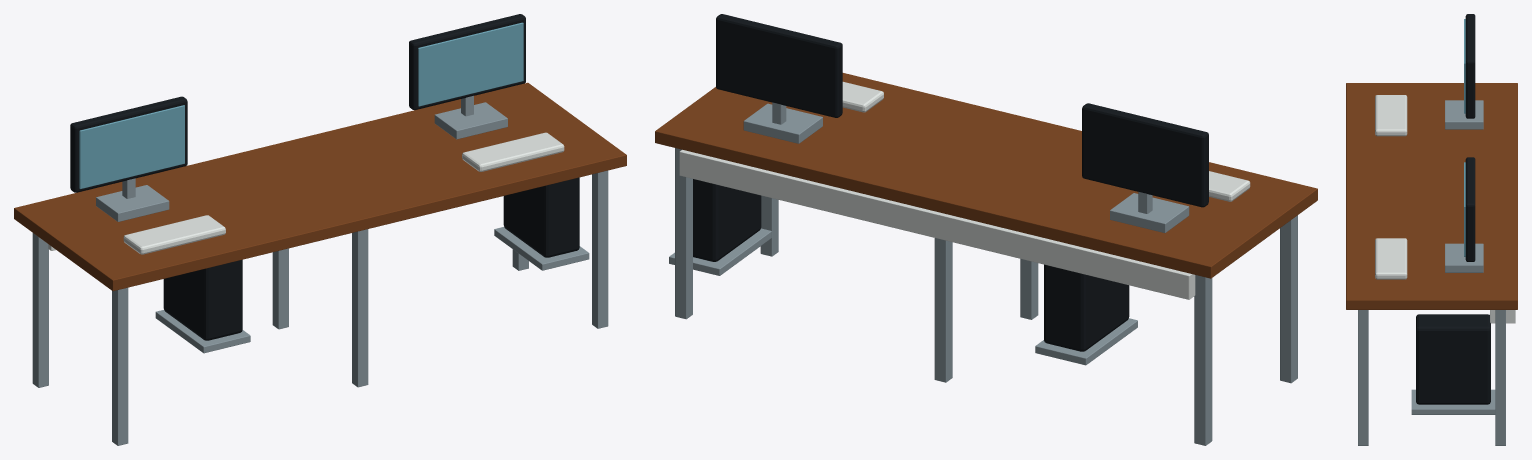
File: edited.glb
The picture shows the model from 3 angles, left to right: view 1: azimuth 30°, elevation 25°; view 2: azimuth 150°, elevation 25°; view 3: azimuth 270°, elevation 25°; orthographic projection. The views are drawn at different scales.
Parts seen in each view (by area): view 1: DESK_Top, MONITOR_Glass.001, MONITOR_Glass, CPU_Case.001, CPU_Case, DESK_Leg, DESK_Leg.002, DESK_Leg.004, DESK_Leg.001, MONITOR_Frame, MONITOR_Frame.001, KEYBOARD (+6 smaller); view 2: DESK_Top, SERVICE_Duct, MONITOR_Frame, MONITOR_Frame.001, CPU_Case.001, CPU_Case, DESK_Leg.001, DESK_Leg, DESK_Leg.003, DESK_Leg.005, MONITOR_Base.001, MONITOR_Base (+6 smaller); view 3: DESK_Top, CPU_Case, DESK_Leg.004, DESK_Leg.005, KEYBOARD.001, KEYBOARD, MONITOR_Frame, MONITOR_Frame.001, CPU_Tray, MONITOR_Base, MONITOR_Base.001, SERVICE_Duct (+2 smaller).
Boxes of the visible parts, box(x1,y1,x2,y2) form: DESK_Top: box(14, 82, 626, 291); MONITOR_Glass.001: box(418, 22, 523, 106); MONITOR_Glass: box(79, 105, 184, 188); CPU_Case.001: box(163, 259, 242, 340); CPU_Case: box(503, 177, 579, 257); DESK_Leg: box(112, 287, 128, 445); DESK_Leg.002: box(352, 229, 368, 387); DESK_Leg.004: box(592, 170, 608, 328); DESK_Leg.001: box(32, 233, 48, 387); MONITOR_Frame: box(70, 96, 187, 192); MONITOR_Frame.001: box(409, 14, 525, 110); KEYBOARD: box(123, 215, 225, 254); DESK_Top: box(655, 73, 1317, 278); SERVICE_Duct: box(679, 149, 1195, 299); MONITOR_Frame: box(1082, 103, 1208, 207); MONITOR_Frame.001: box(716, 14, 842, 117); CPU_Case.001: box(1044, 264, 1129, 351); CPU_Case: box(693, 179, 761, 261); DESK_Leg.001: box(1194, 275, 1212, 445); DESK_Leg: box(1280, 215, 1297, 383); DESK_Leg.003: box(934, 238, 952, 382); DESK_Leg.005: box(675, 148, 692, 319); MONITOR_Base.001: box(743, 103, 822, 143); MONITOR_Base: box(1110, 193, 1189, 232); DESK_Top: box(1346, 83, 1517, 309); CPU_Case: box(1416, 314, 1490, 404); DESK_Leg.004: box(1358, 310, 1368, 445); DESK_Leg.005: box(1495, 310, 1505, 445); KEYBOARD.001: box(1375, 238, 1407, 279); KEYBOARD: box(1375, 95, 1407, 136); MONITOR_Frame: box(1465, 14, 1475, 118); MONITOR_Frame.001: box(1465, 157, 1475, 261); CPU_Tray: box(1411, 389, 1495, 414); MONITOR_Base: box(1445, 100, 1483, 129); MONITOR_Base.001: box(1445, 243, 1483, 272); SERVICE_Duct: box(1490, 310, 1515, 323).
Size of the model in its own units: 2.4 by 1.2 by 0.8.
